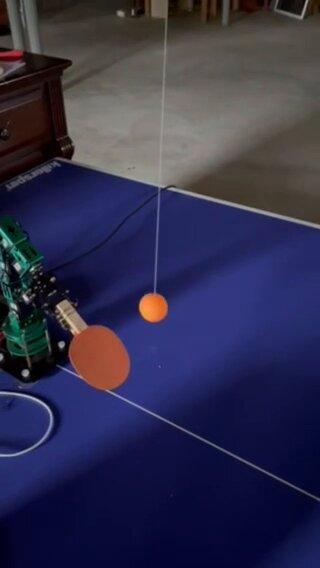oball: (140, 293, 166, 319)
